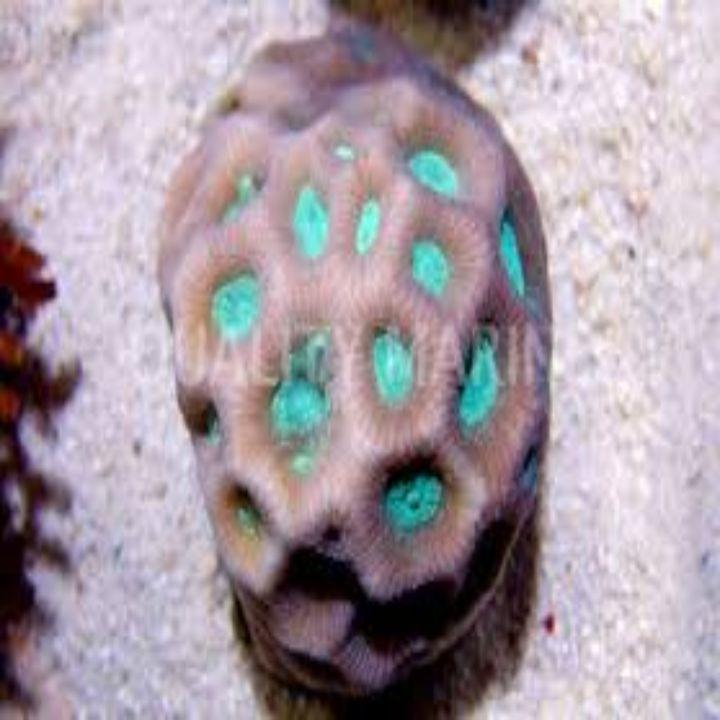Healthy Coral: (143, 48, 586, 701)
